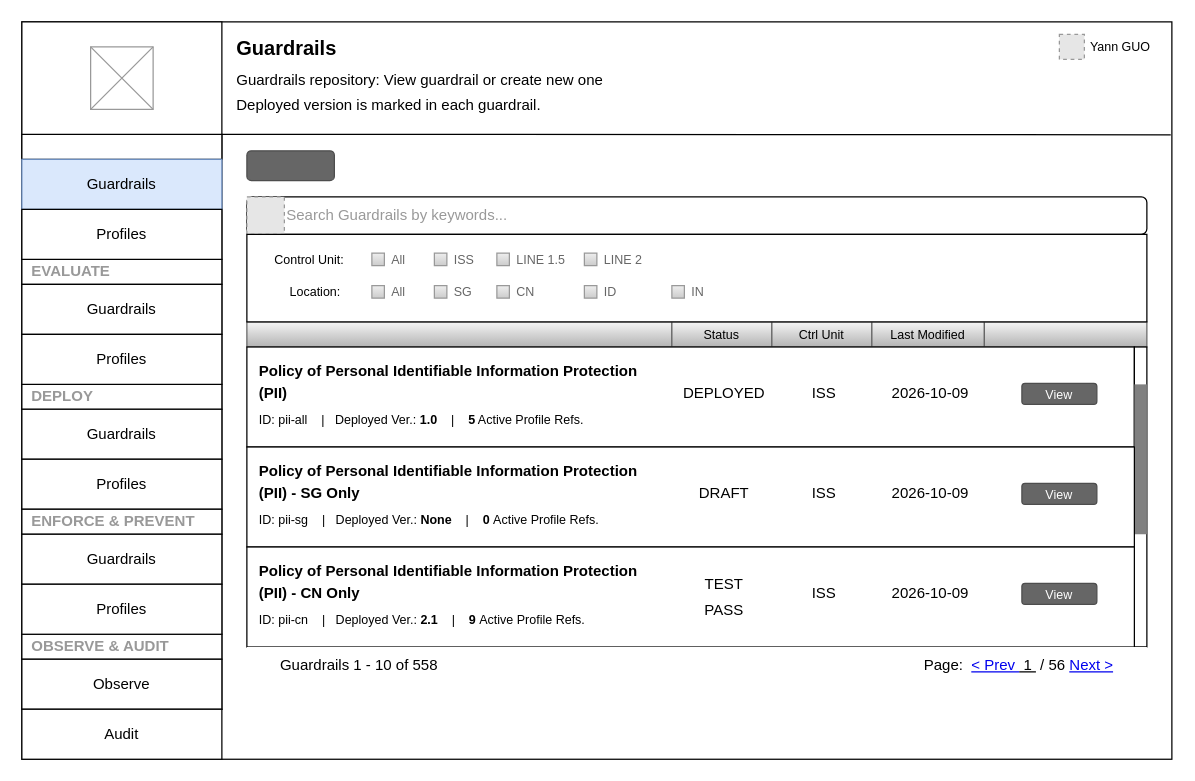
This 1195x781 diagram has some shape labels left out. Grey dashed boxes stand in for pictures. Here are the shapes that lost their labels. From the top down, the centre of each, then its label:
At point (121, 146): "CRAFT".
At point (290, 165): "New GR".
At point (459, 334): "Guardrail".
At point (1065, 334): "Action".
